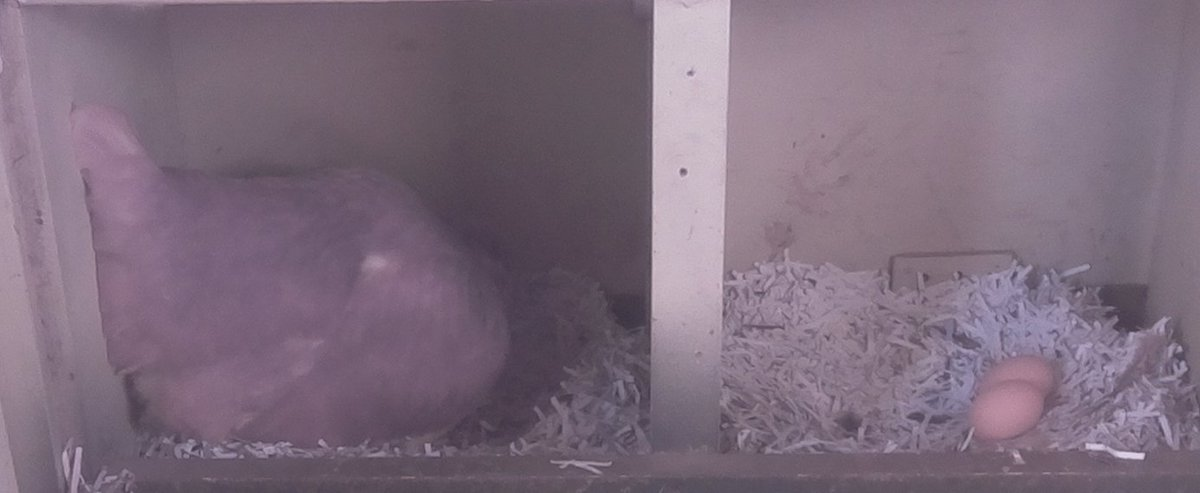egg: (969, 378, 1047, 444), (977, 352, 1060, 400)
hen: (73, 145, 588, 452)
